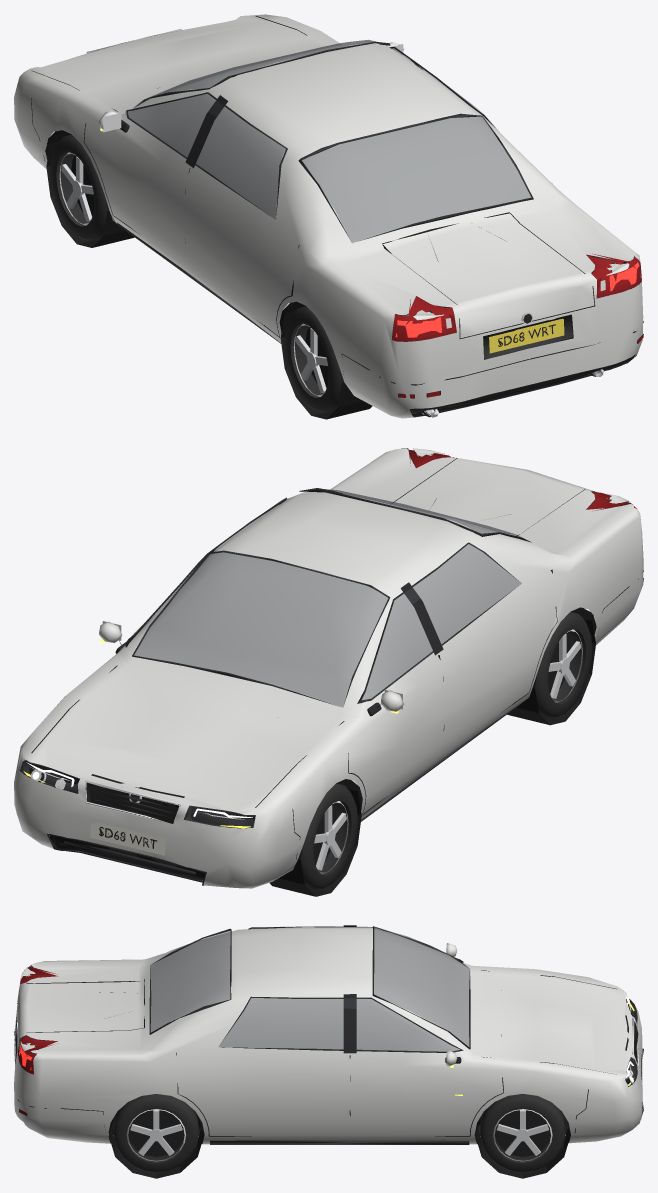
File: car_sedan.glb
3 views of the same model, one above another, from view 1: azimuth 30°, elevation 25°; view 2: azimuth 150°, elevation 25°; view 3: azimuth 270°, elevation 25° (orthographic). The views are drawn at different scales.
Visible parts, largest first — view 1: car; view 2: car; view 3: car.
Part boxes in pixels (box(x1,y1,x2,y2)): car: box(14, 14, 643, 419); car: box(14, 448, 643, 896); car: box(14, 925, 643, 1178).
Size of the model in its own units: 2.08 by 1.49 by 4.8.
